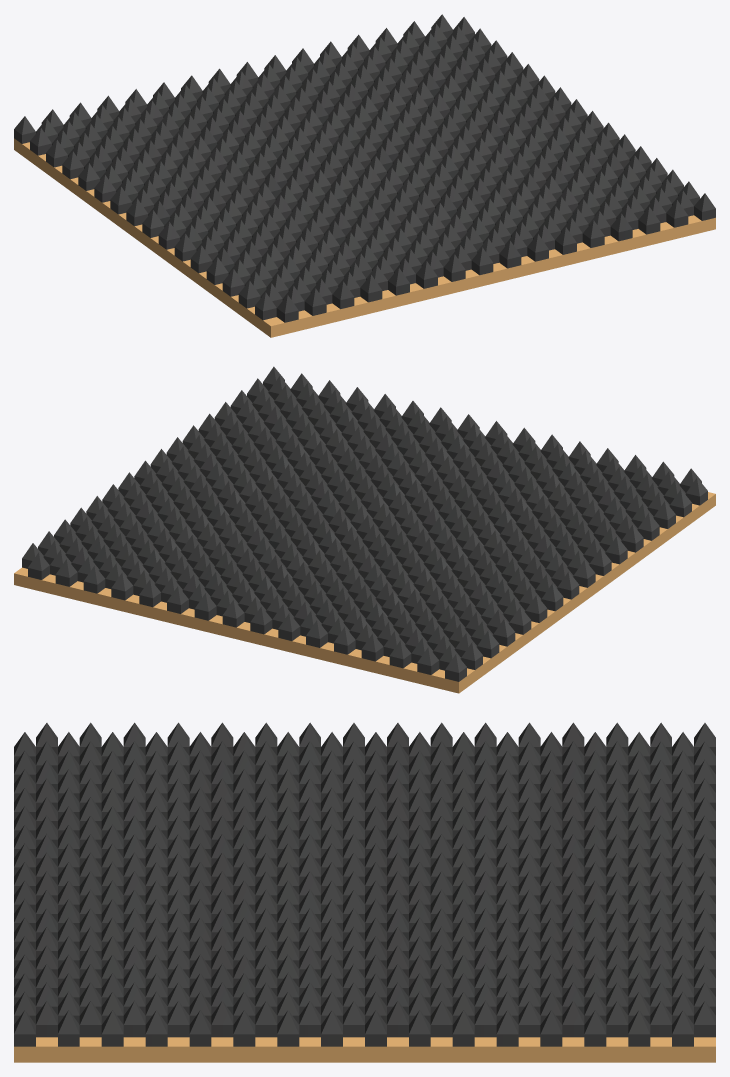
The model's file is LargeSpikes.fbx.
3 renders of one model, top to bottom at view 1: azimuth 30°, elevation 25°; view 2: azimuth 150°, elevation 25°; view 3: azimuth 270°, elevation 25°, orthographic. The views are drawn at different scales.
Visible parts, largest first — view 1: Cube.017; view 2: Cube.017; view 3: Cube.017.
Part boxes in pixels (<box>): Cube.017: <box>14,14,715,337</box>; Cube.017: <box>14,366,715,693</box>; Cube.017: <box>14,722,715,1062</box>.
Bounding box in the file's own units: 800 × 60.46 × 800.
